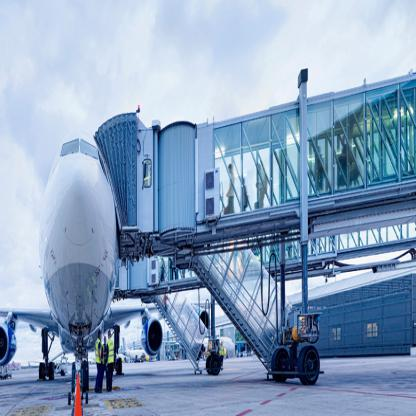boarding bridge: (80, 105, 144, 271)
